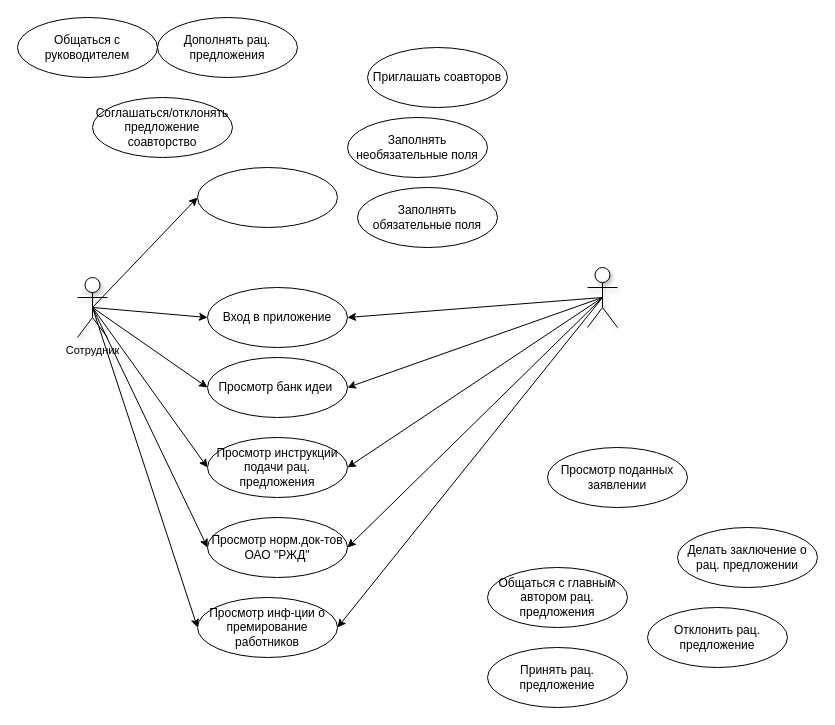
Some shapes in this 835 by 725 pixel diagram are drawn without their labels. Here are the shapes that lost their labels. From the top down, the centre of each, then its label:
At point (267, 197): "Подача рац. предложения".
At point (603, 298): "Руководитель".
